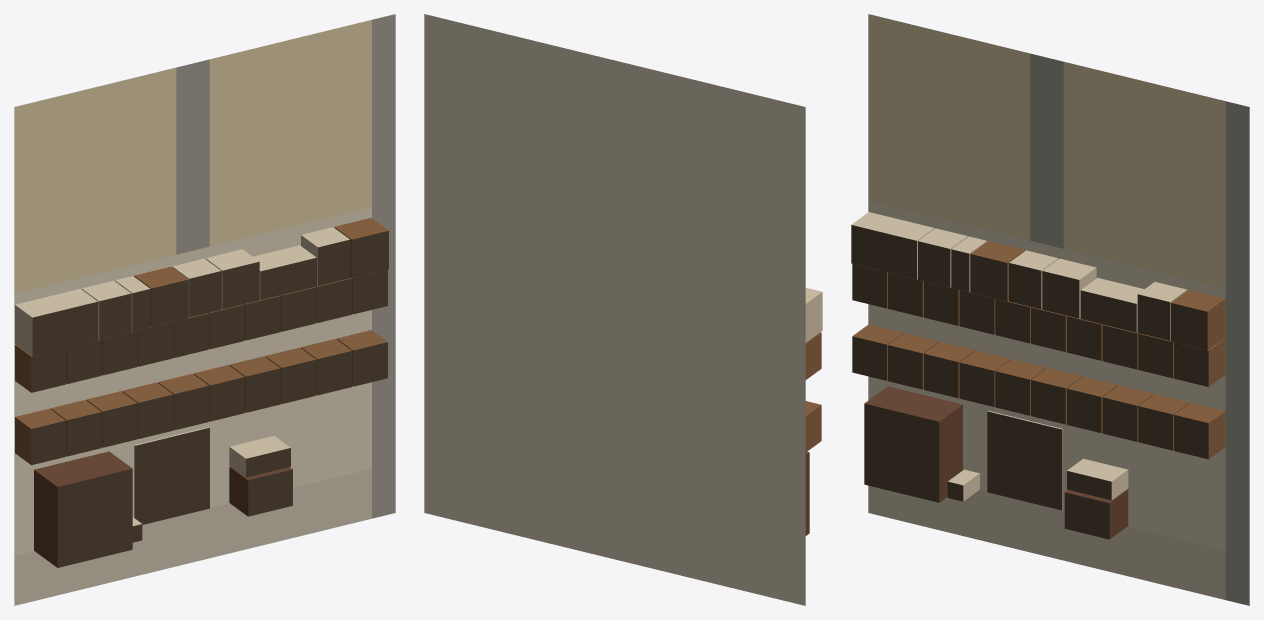
Rendered from stable_scene.obj.
3 views of the same model, side by side, from view 1: azimuth 30°, elevation 25°; view 2: azimuth 150°, elevation 25°; view 3: azimuth 330°, elevation 25° (orthographic).
Visible parts, largest first — view 1: PD01_paddock, PD02_paddock, site_ground_pad, MC01_arrival_court, FL01_service_lane, MJ01_majlis, WSY01_service_yard, OSA01_outdoor_sitting, WB01_worker_bedroom, PK01_parking, SV01_service_room, PBR01_private_bedroom (+28 smaller); view 2: site_ground_pad, WB01_worker_bedroom, S01_horse_stall, S11_horse_stall; view 3: PD01_paddock, PD02_paddock, site_ground_pad, MC01_arrival_court, FL01_service_lane, MJ01_majlis, WSY01_service_yard, OSA01_outdoor_sitting, WB01_worker_bedroom, P02_premium_horse_stall, PBR01_private_bedroom, SV01_service_room (+29 smaller).
Boxes of the visible parts, x1=… form: PD01_paddock: x1=14, y1=67, x2=176, y2=294; PD02_paddock: x1=209, y1=20, x2=371, y2=246; site_ground_pad: x1=14, y1=15, x2=389, y2=555; MC01_arrival_court: x1=14, y1=469, x2=371, y2=605; FL01_service_lane: x1=372, y1=14, x2=395, y2=518; MJ01_majlis: x1=34, y1=451, x2=132, y2=567; WSY01_service_yard: x1=176, y1=59, x2=209, y2=254; OSA01_outdoor_sitting: x1=134, y1=427, x2=209, y2=524; WB01_worker_bedroom: x1=15, y1=288, x2=97, y2=356; PK01_parking: x1=262, y1=475, x2=366, y2=539; SV01_service_room: x1=253, y1=245, x2=316, y2=299; PBR01_private_bedroom: x1=229, y1=466, x2=292, y2=516; site_ground_pad: x1=424, y1=14, x2=805, y2=605; WB01_worker_bedroom: x1=805, y1=287, x2=822, y2=342; S01_horse_stall: x1=805, y1=401, x2=821, y2=452; S11_horse_stall: x1=805, y1=332, x2=821, y2=379; PD01_paddock: x1=868, y1=14, x2=1030, y2=240; PD02_paddock: x1=1063, y1=62, x2=1225, y2=288; site_ground_pad: x1=868, y1=15, x2=1248, y2=549; MC01_arrival_court: x1=868, y1=485, x2=1225, y2=599; FL01_service_lane: x1=1225, y1=101, x2=1249, y2=605; MJ01_majlis: x1=864, y1=386, x2=962, y2=502; WSY01_service_yard: x1=1030, y1=53, x2=1063, y2=248; OSA01_outdoor_sitting: x1=987, y1=410, x2=1062, y2=510; WB01_worker_bedroom: x1=851, y1=212, x2=934, y2=279; P02_premium_horse_stall: x1=1170, y1=290, x2=1225, y2=350; PBR01_private_bedroom: x1=1064, y1=489, x2=1128, y2=539; SV01_service_room: x1=1080, y1=278, x2=1144, y2=332.
Bounding box in the file's own units: 40 × 50 × 4.32.
